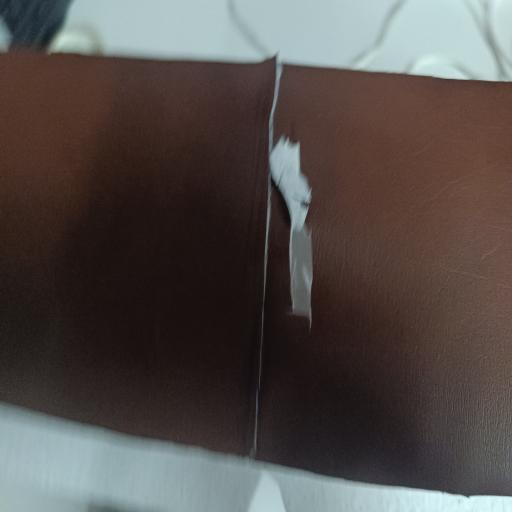joint_damage: (236, 38, 340, 498), (274, 16, 338, 467)
